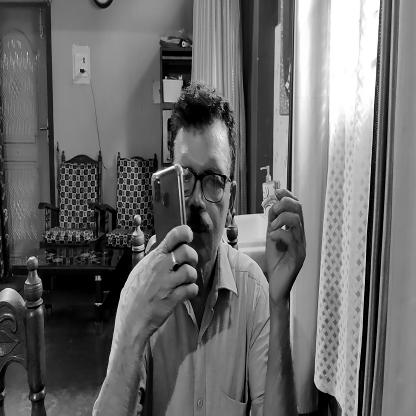Normal: (184, 86, 233, 261)
